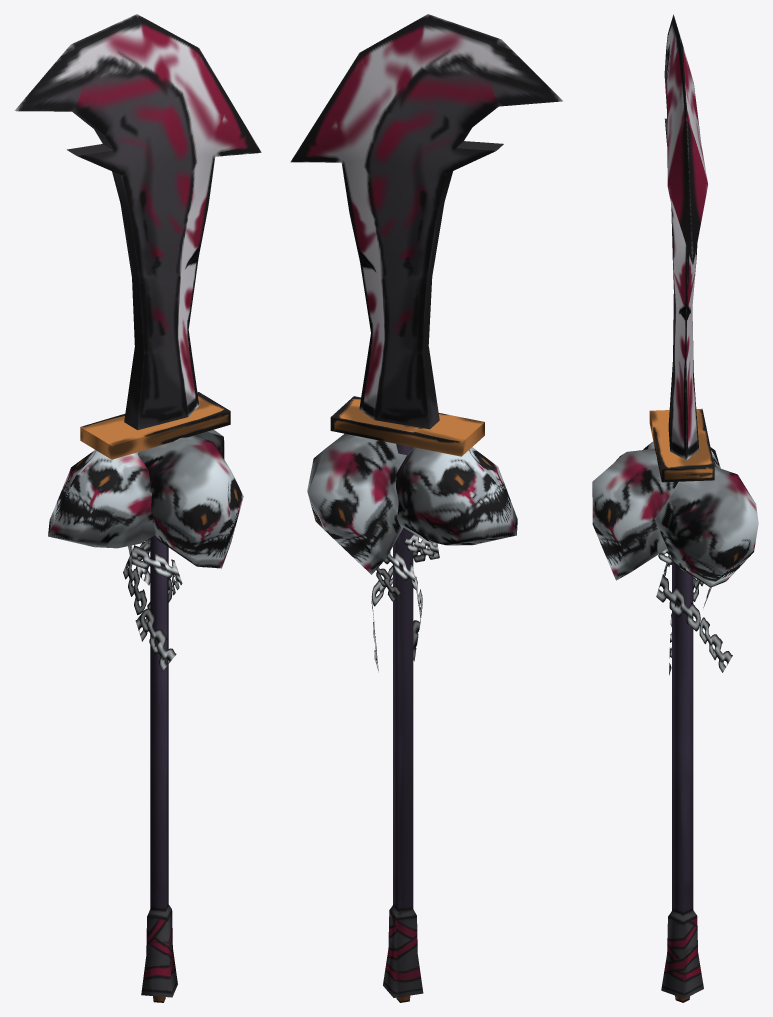
File: WP_Jorogumo.FBX
3 views of the same model, side by side, from view 1: azimuth 30°, elevation 25°; view 2: azimuth 150°, elevation 25°; view 3: azimuth 270°, elevation 25° (orthographic). The views are drawn at different scales.
Parts seen in each view (by area): view 1: WP_Jorogumo; view 2: WP_Jorogumo; view 3: WP_Jorogumo.
Boxes of the visible parts, bbox=[...] form: WP_Jorogumo: bbox=[14, 14, 261, 1002]; WP_Jorogumo: bbox=[290, 14, 562, 1002]; WP_Jorogumo: bbox=[592, 14, 758, 1002].
Size of the model in its own units: 287 by 1045 by 165.
